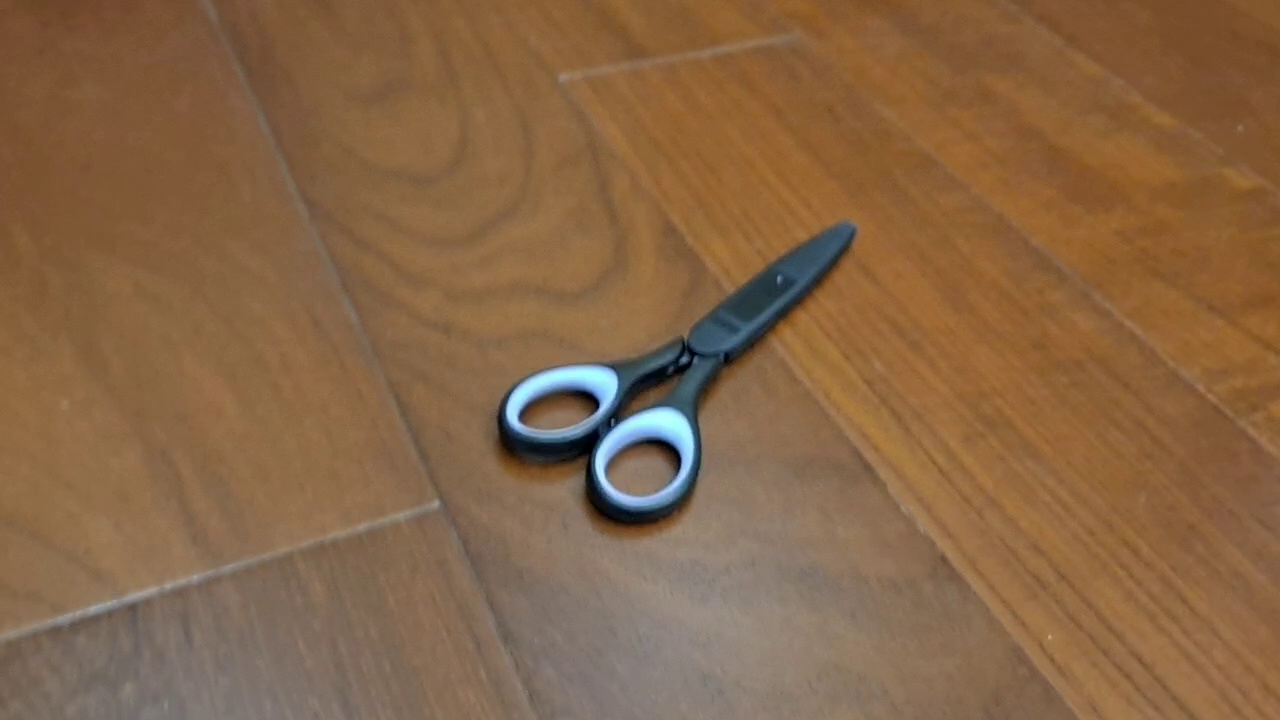scissors: (495, 217, 858, 527)
